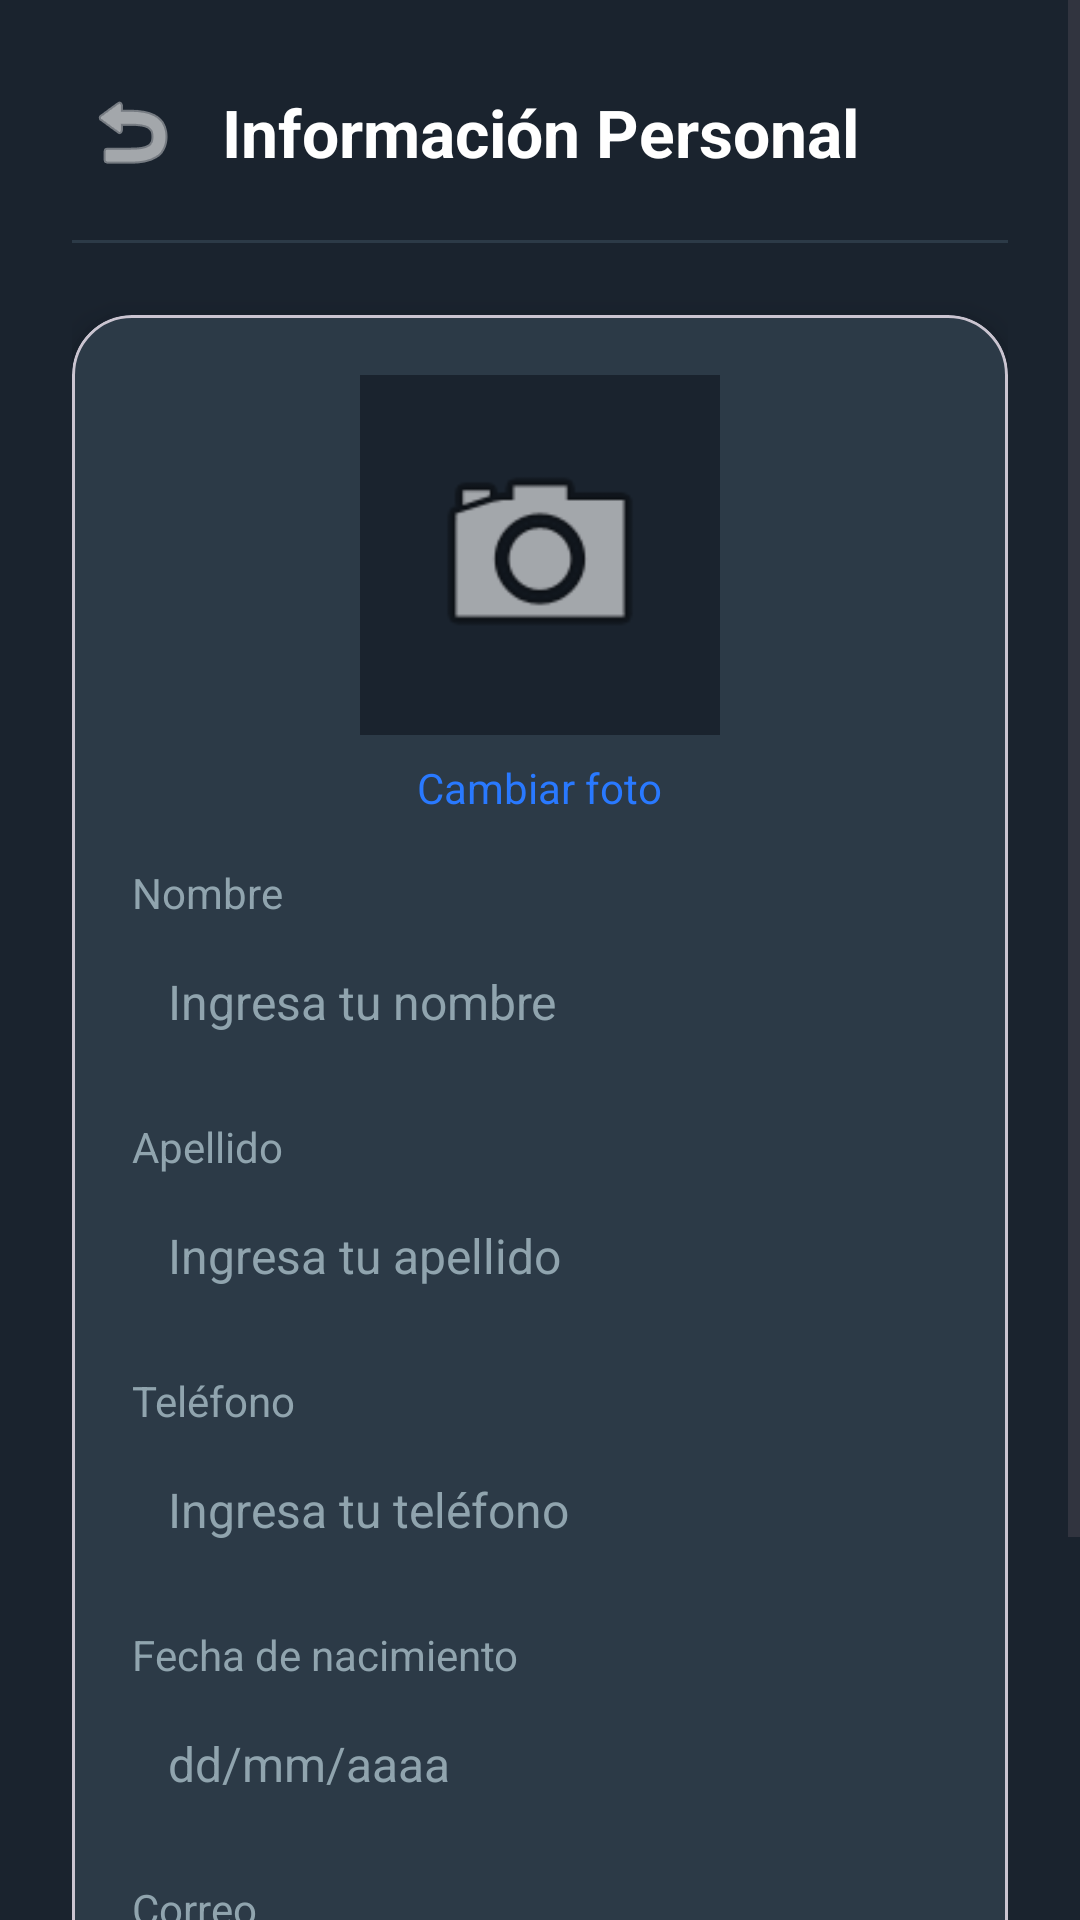

Where to tap for icons on this 1080×1920 app screen, as point (x, y):
Foto de perfil: point (540, 555)
Volver: point (133, 132)
